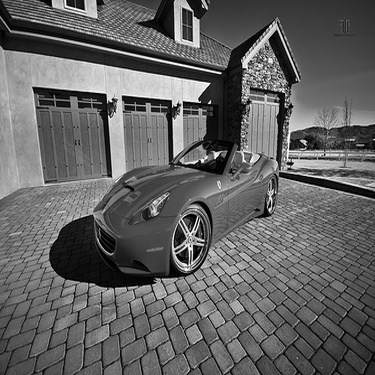car: (81, 131, 282, 286)
